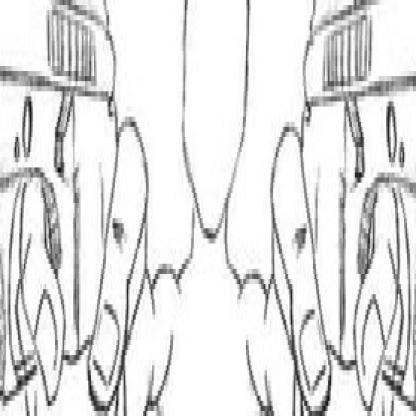gun: (0, 0, 137, 411), (286, 0, 414, 411)
